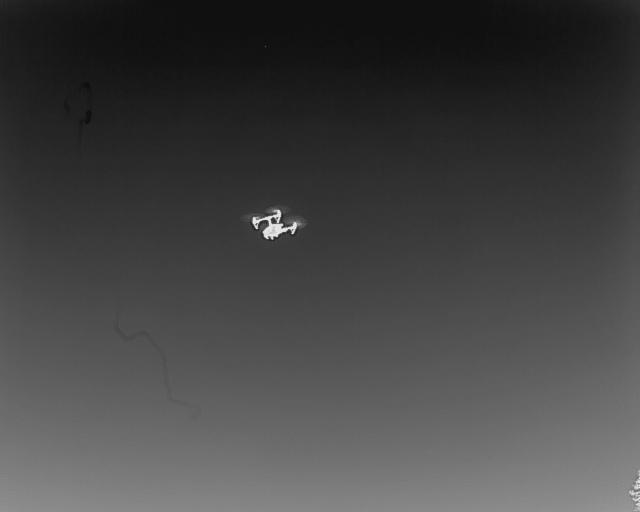drone: (245, 207, 302, 248)
